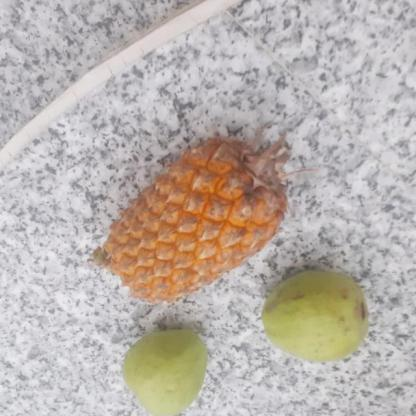guava: (258, 272, 368, 362), (120, 328, 208, 416)
pineapple: (92, 137, 296, 306)
